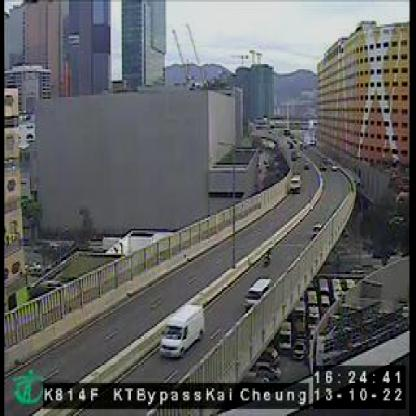Car: (245, 278, 274, 309), (289, 175, 302, 192)
Truck: (159, 300, 205, 359)
